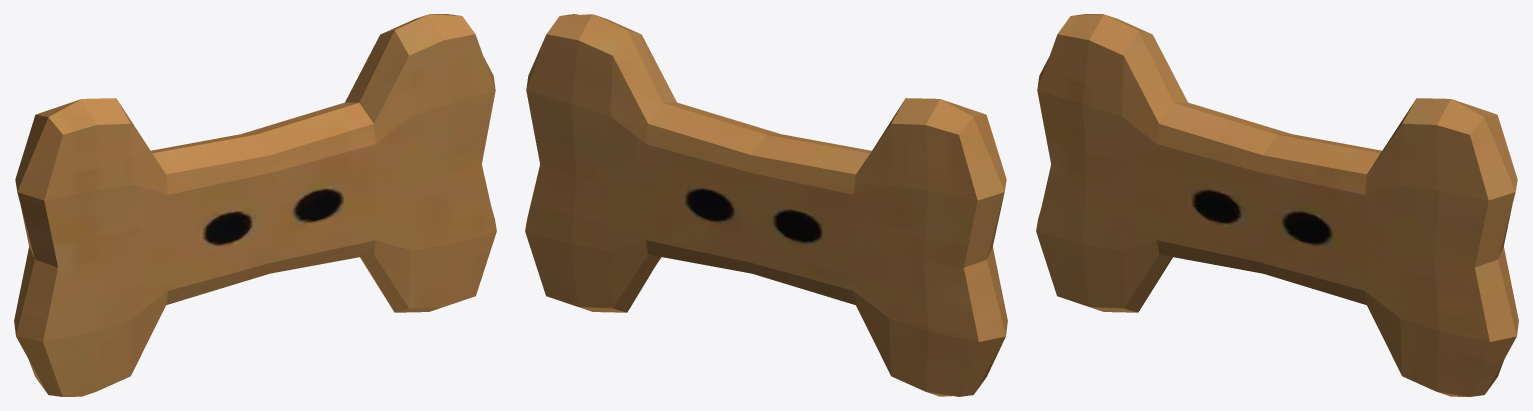
The model's file is Biscoito2.fbx.
3 renders of one model, left to right at view 1: azimuth 30°, elevation 25°; view 2: azimuth 150°, elevation 25°; view 3: azimuth 330°, elevation 25°, orthographic.
Parts seen in each view (by area): view 1: Cubo; view 2: Cubo; view 3: Cubo.
Part boxes in pixels (x1,y1,x2,y2): Cubo: [14, 14, 496, 396]; Cubo: [525, 14, 1007, 396]; Cubo: [1036, 14, 1518, 396].
Bounding box in the file's own units: 414 × 246 × 49.62.
